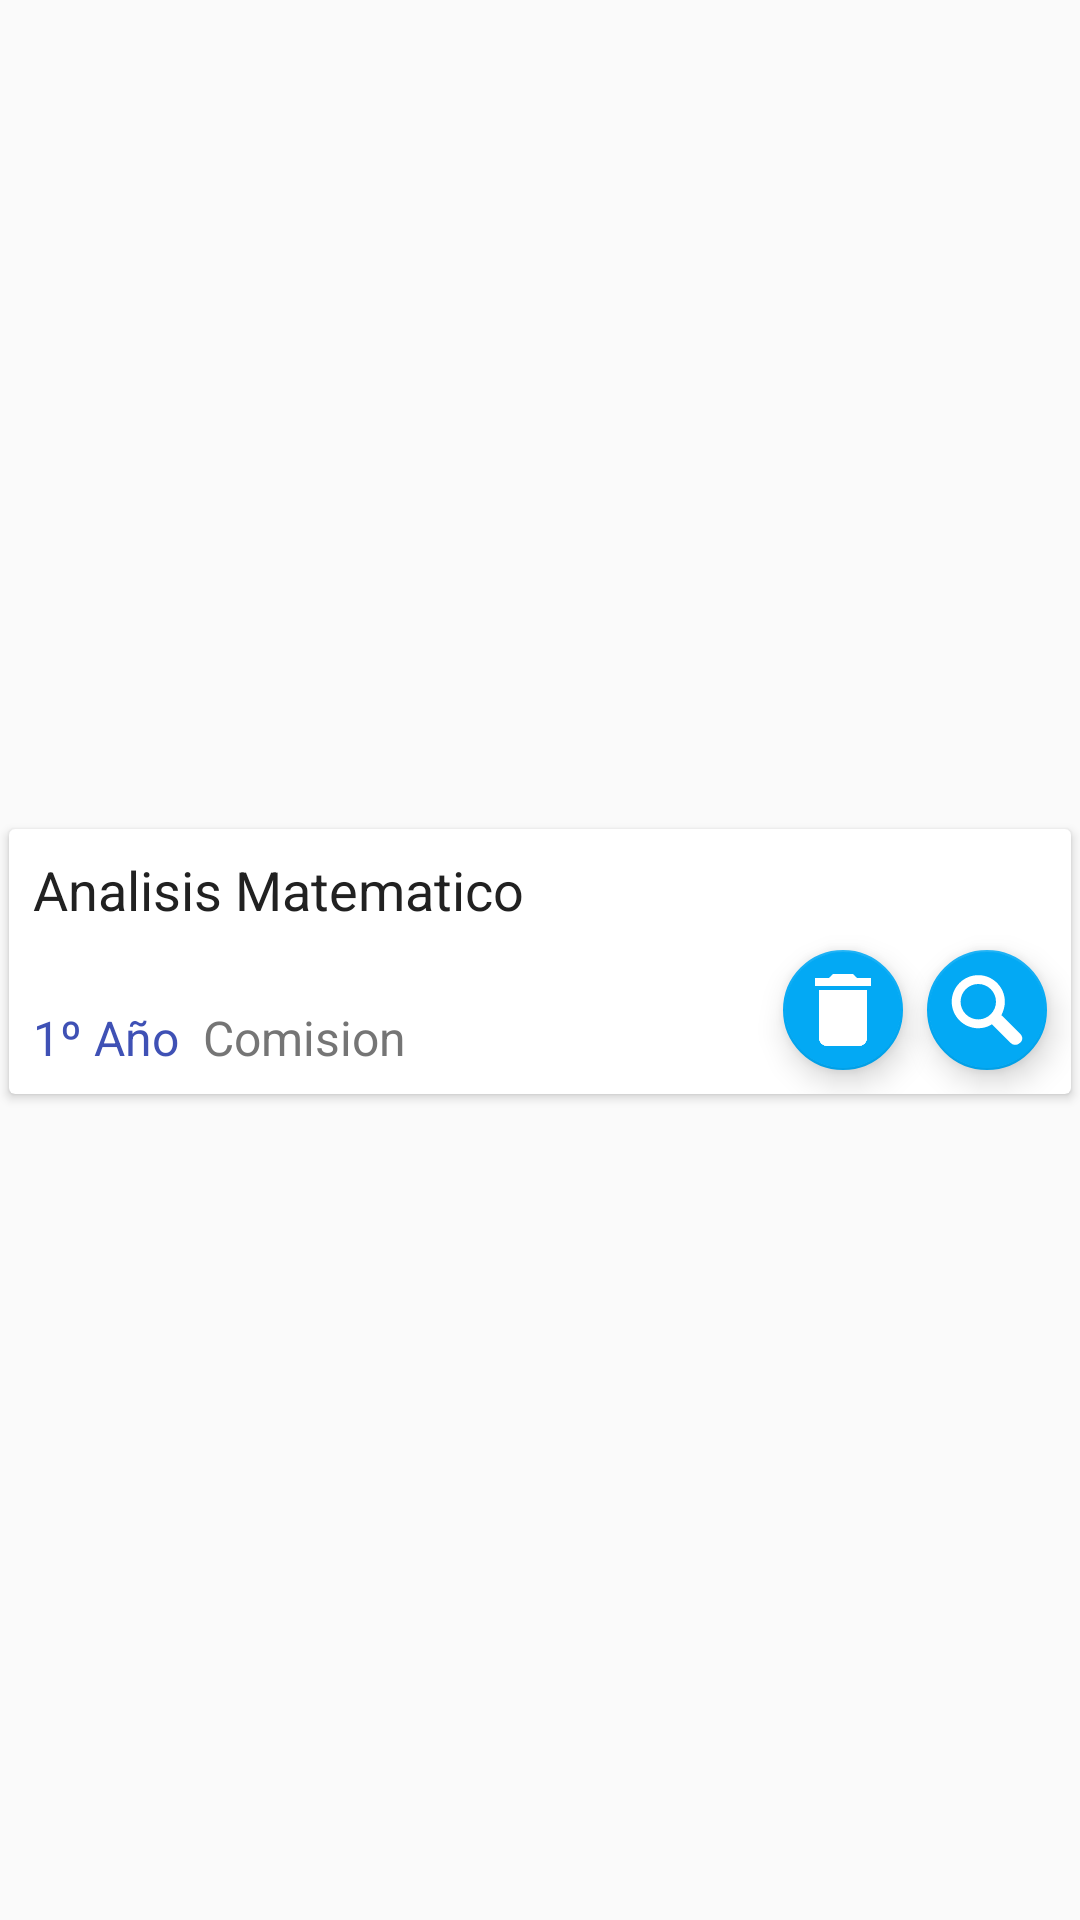

Locate icon controls on the screen. Image size 1080×1920, boxes as {"x1": x1, "y1": y1, "x2": x2, "y2": y2}.
delete: {"x1": 783, "y1": 950, "x2": 903, "y2": 1070}
search: {"x1": 927, "y1": 950, "x2": 1047, "y2": 1070}
